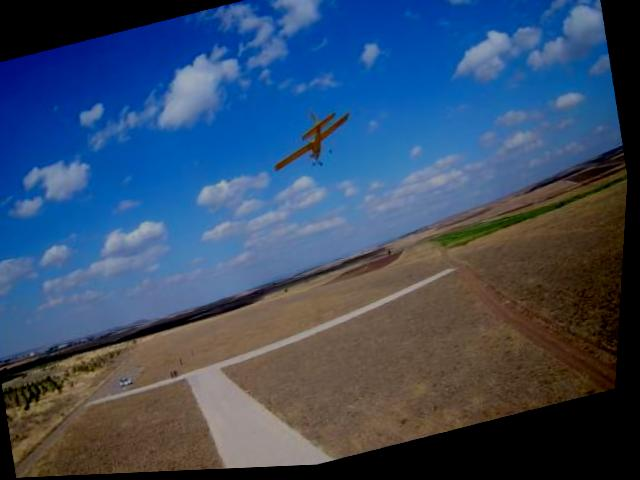uav: (264, 102, 362, 181)
